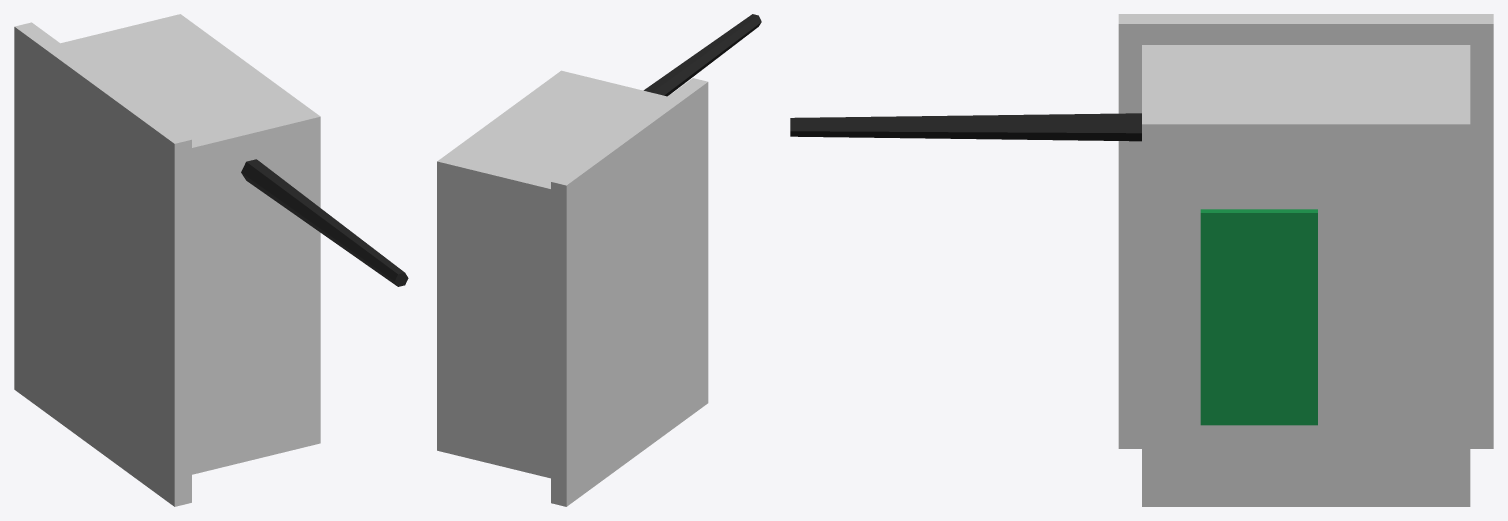
The model's file is sensor_box.obj.
3 renders of one model, left to right at view 1: azimuth 30°, elevation 25°; view 2: azimuth 150°, elevation 25°; view 3: azimuth 270°, elevation 25°, orthographic. The views are drawn at different scales.
Bounding box in the file's own units: 0.0935 × 0.2 × 0.3.
